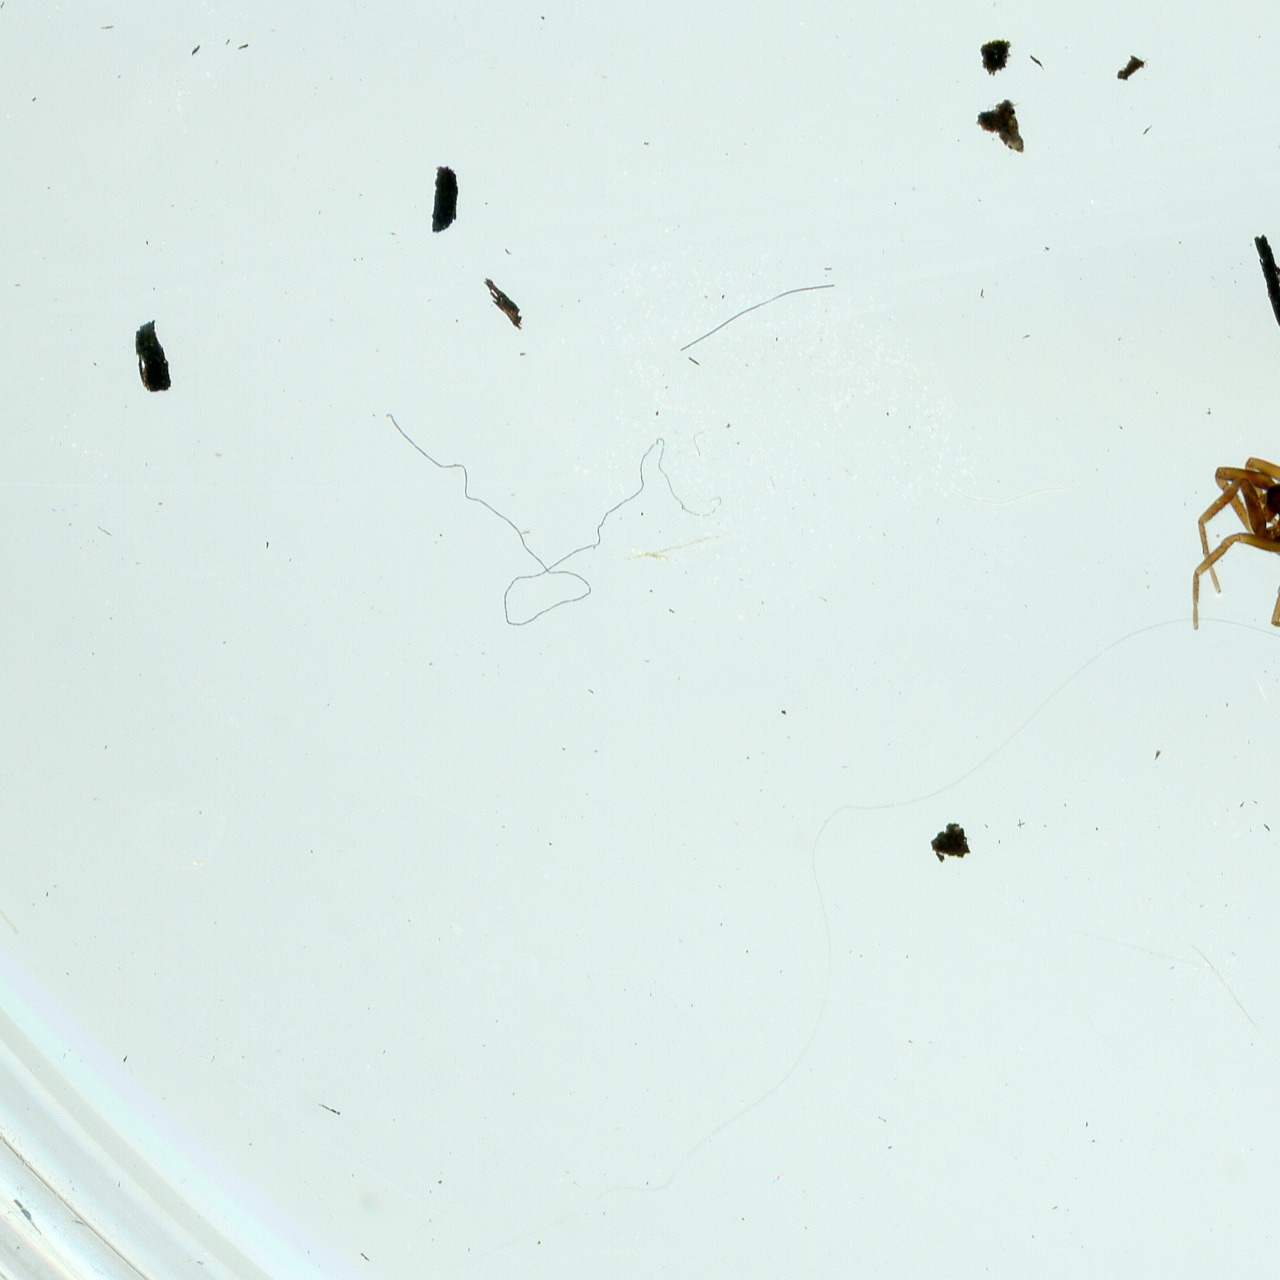arthropod: (1186, 386, 1280, 644), (1244, 502, 1280, 729)
